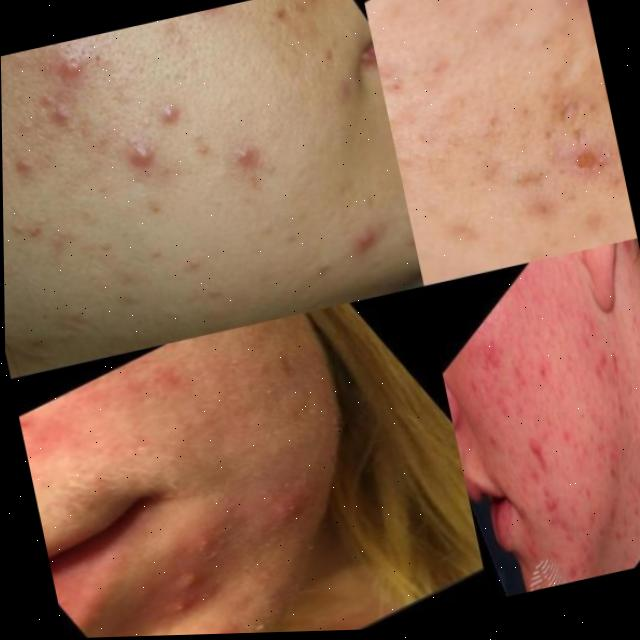Acne: (18, 0, 368, 285), (406, 11, 614, 259), (455, 301, 640, 571), (13, 346, 237, 503), (225, 492, 313, 570), (185, 616, 257, 635)
